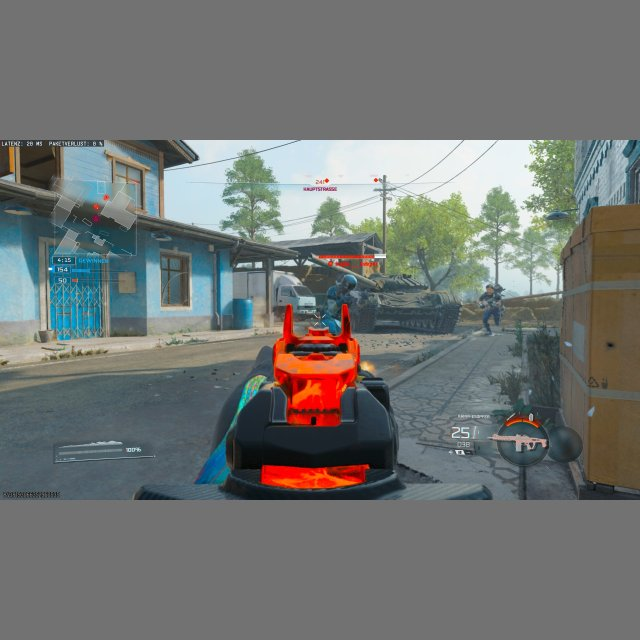head: (339, 273, 356, 289), (486, 284, 496, 294)
player: (324, 272, 357, 332), (477, 283, 505, 335)
